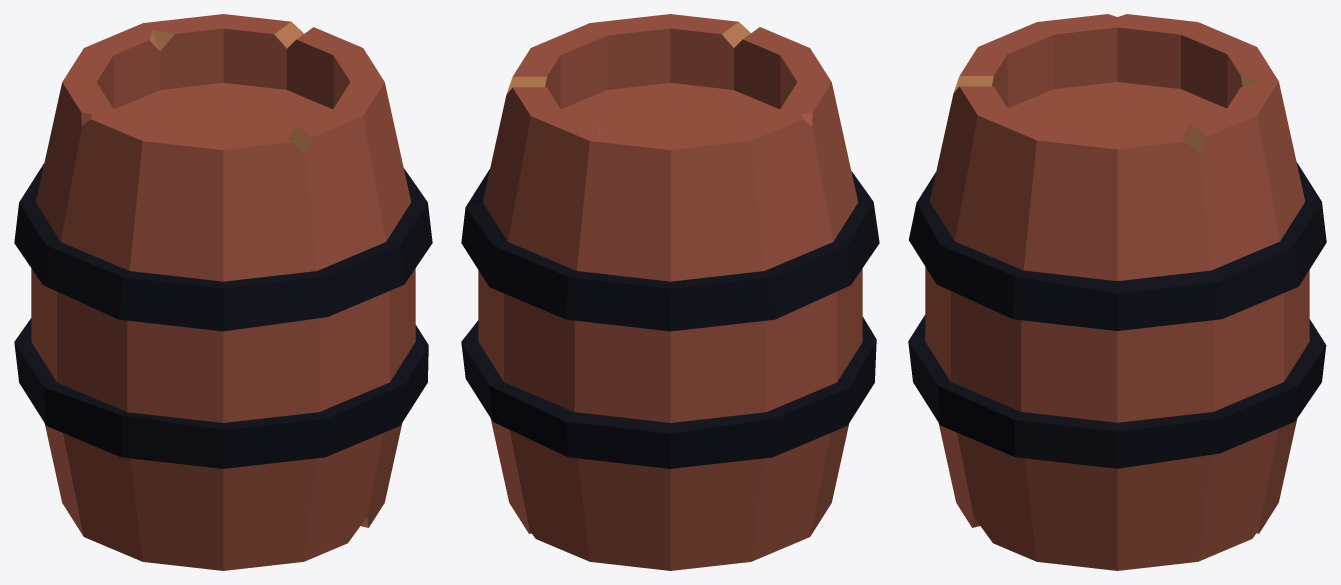
Rendered from barrel.glb.
3 views of the same model, side by side, from view 1: azimuth 30°, elevation 25°; view 2: azimuth 150°, elevation 25°; view 3: azimuth 270°, elevation 25° (orthographic).
Parts seen in each view (by area): view 1: barrel; view 2: barrel; view 3: barrel.
Boxes of the visible parts, x1,y1,x2,y2 form: barrel: (14,14,432,570); barrel: (461,14,879,570); barrel: (908,14,1326,570).
Bounding box in the file's own units: 0.9 × 1 × 0.9.
Materials: 1 (1 with a texture image).
